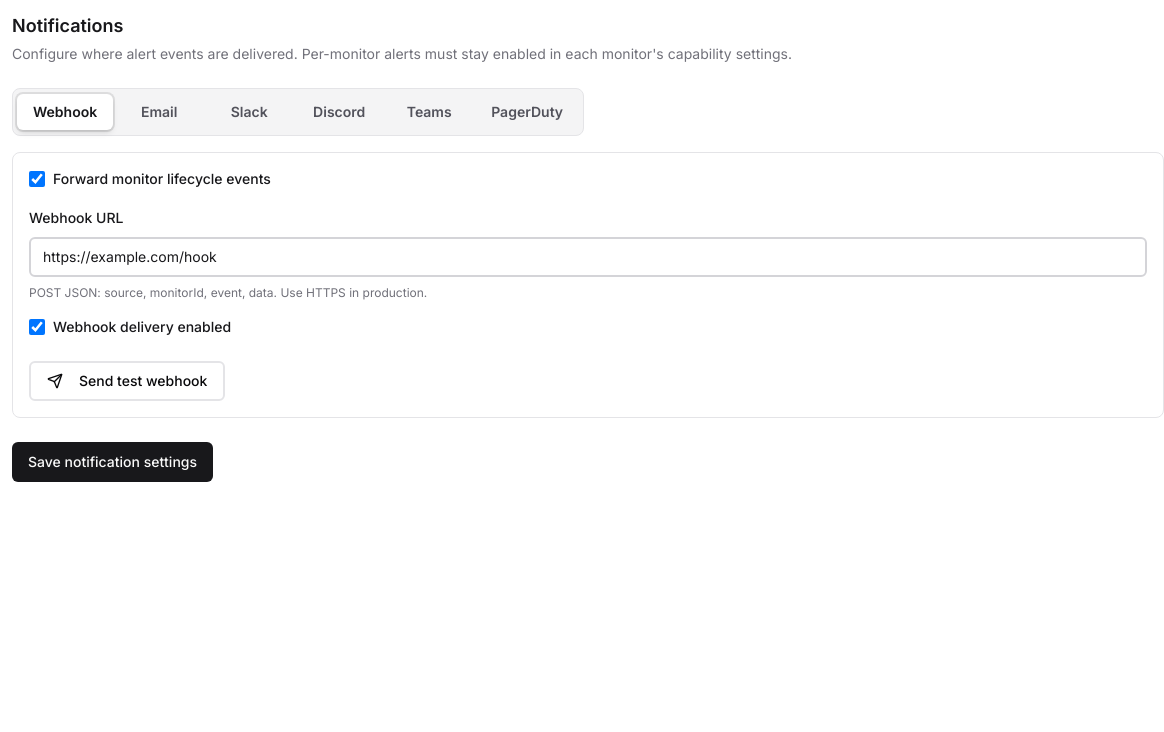
Test: NotificationChannelSettings › renders send test email button
The width and height of the screenshot is (1164, 732).
Click the button "Email": [159, 112] box top-left (115, 94), bottom-right (203, 130)
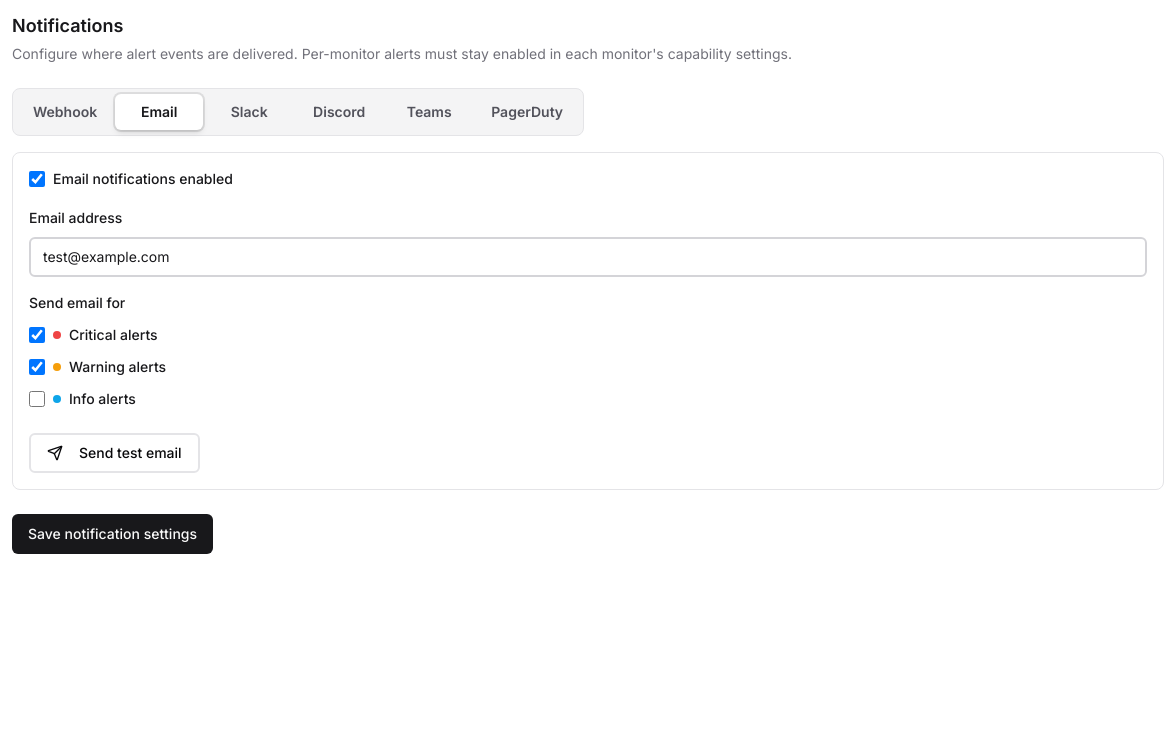
Check: the button "Send test email" is enabled, box top-left (29, 433), bottom-right (200, 473)
Check: the button "Send test email" is shown, box top-left (29, 433), bottom-right (200, 473)
